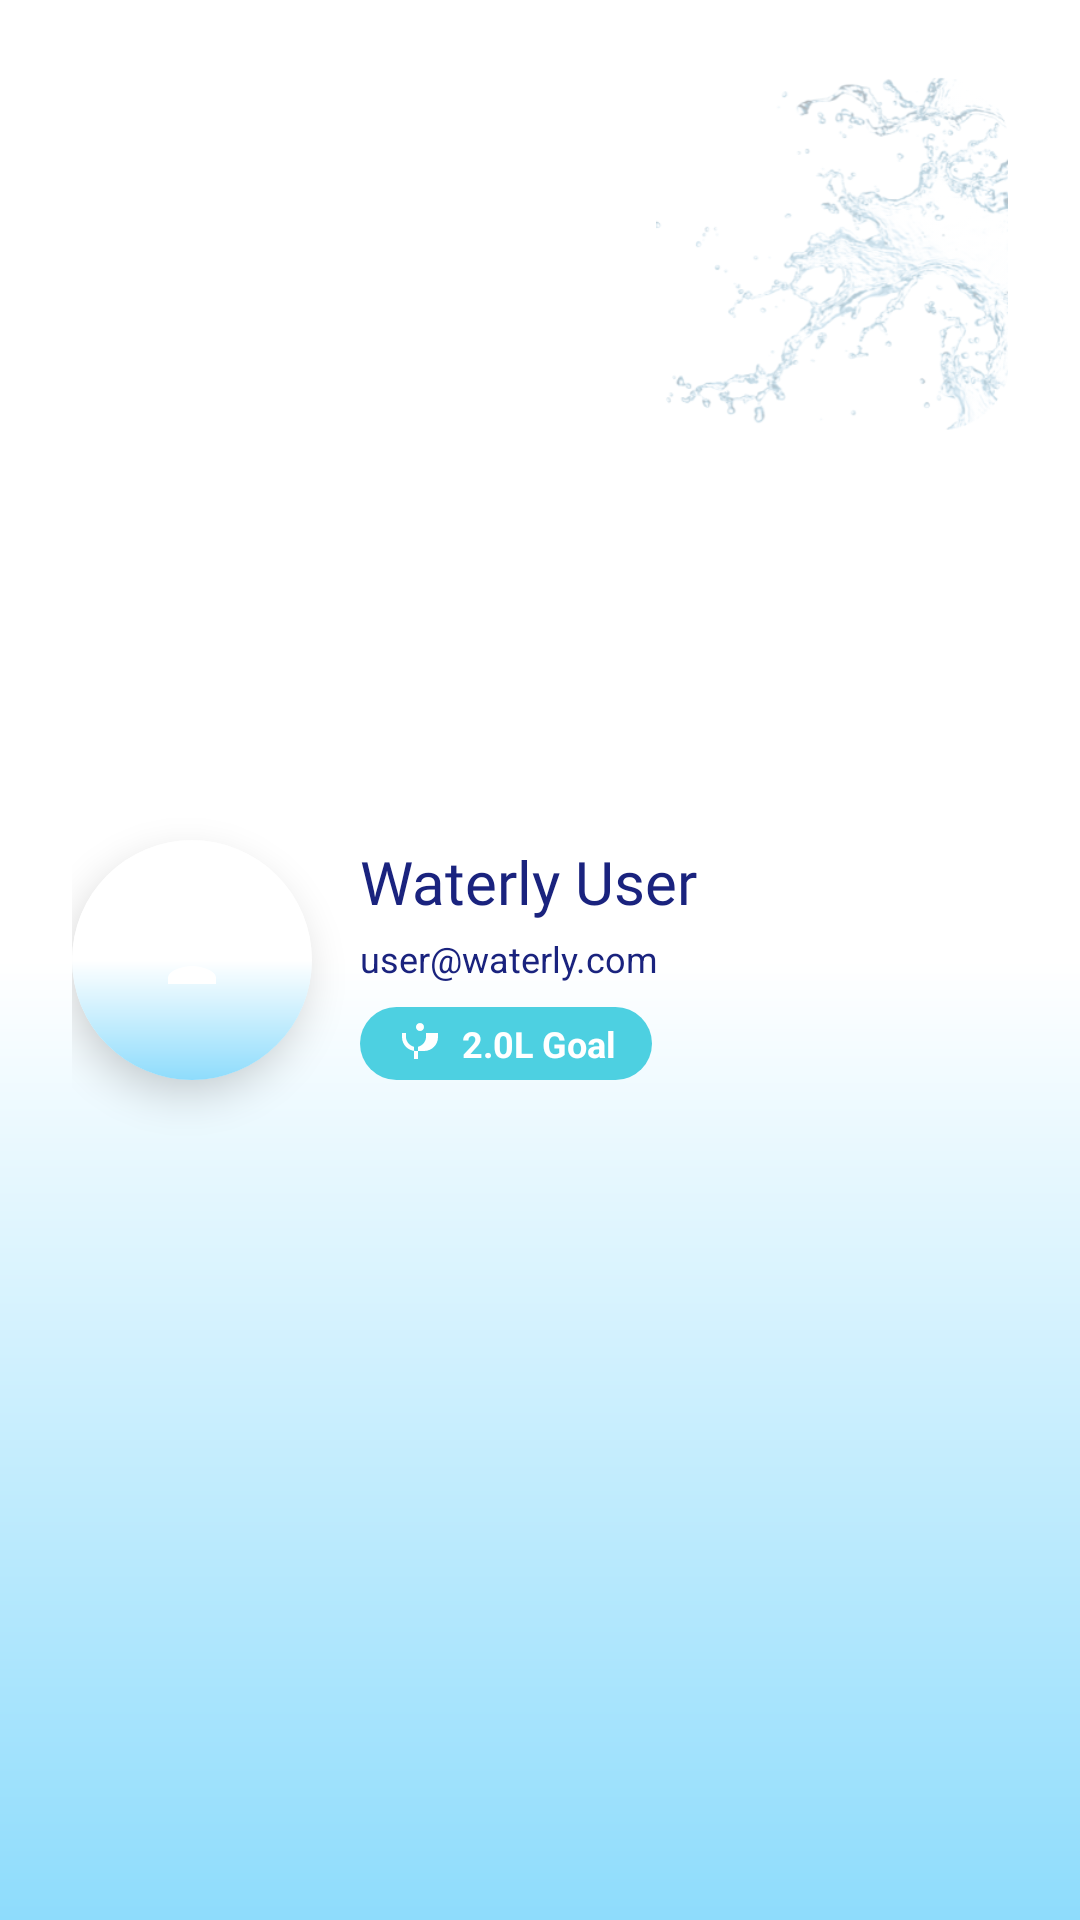

Locate icon controls on the screen. Image size 1080x1920, boxes as (x1, y1, x2, y2).
water drop: (402, 1023, 438, 1059)
watercorner: (656, 78, 1008, 429)
